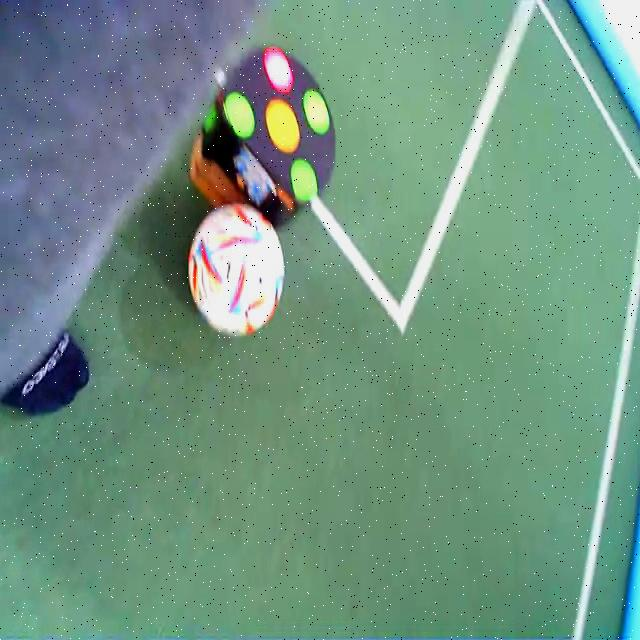ball: (189, 206, 283, 335)
